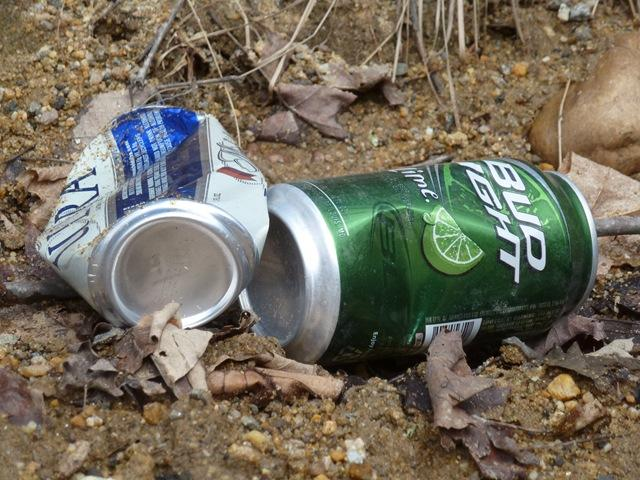metal: (250, 152, 591, 367), (35, 106, 267, 327)
